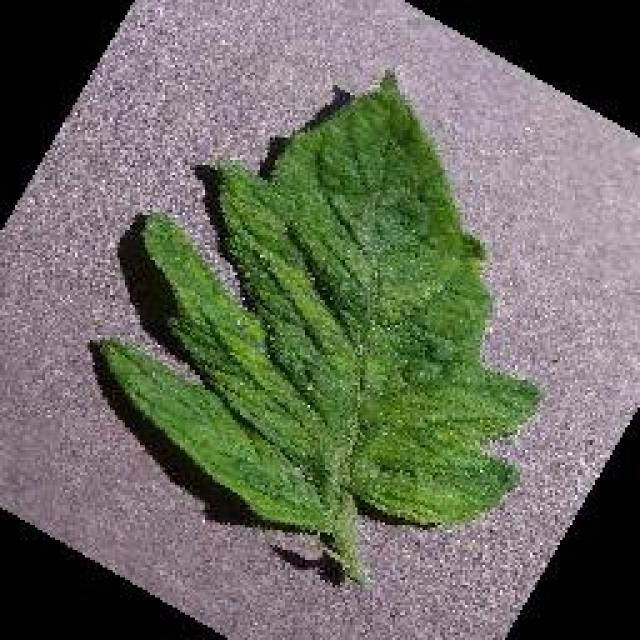Tomato___Tomato_mosaic_virus: (102, 75, 538, 578)
